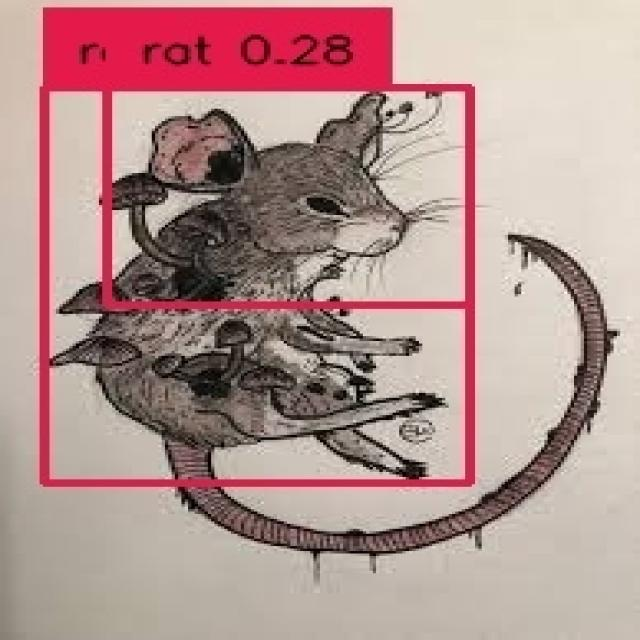rat: (40, 84, 465, 479), (102, 84, 465, 301)
